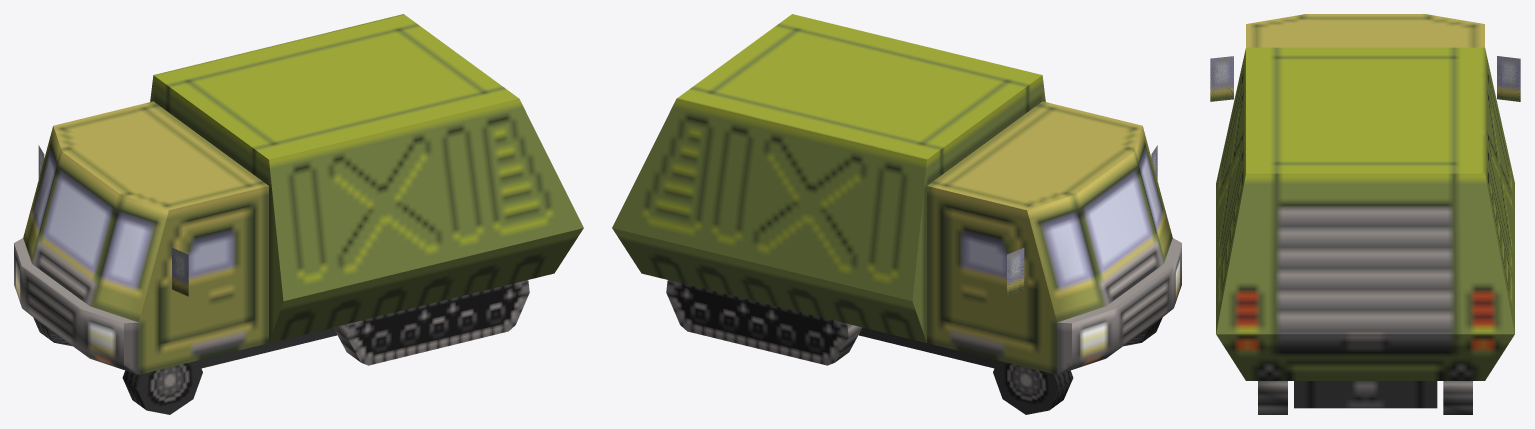
Rendered from truck.dae.
3 renders of one model, left to right at view 1: azimuth 30°, elevation 25°; view 2: azimuth 150°, elevation 25°; view 3: azimuth 270°, elevation 25°, orthographic. The views are drawn at different scales.
Parts seen in each view (by area): view 1: truck, Cylinder; view 2: truck, Cylinder; view 3: truck.
Part boxes in pixels (box(x1,y1,x2,y2)): truck: box(14, 14, 583, 374); Cylinder: box(33, 317, 202, 414); truck: box(612, 14, 1181, 374); Cylinder: box(993, 317, 1162, 414); truck: box(1210, 14, 1520, 414).
Bounding box in the file's own units: 9.2 × 5.2 × 4.5.
Materials: 1 (1 with a texture image).
